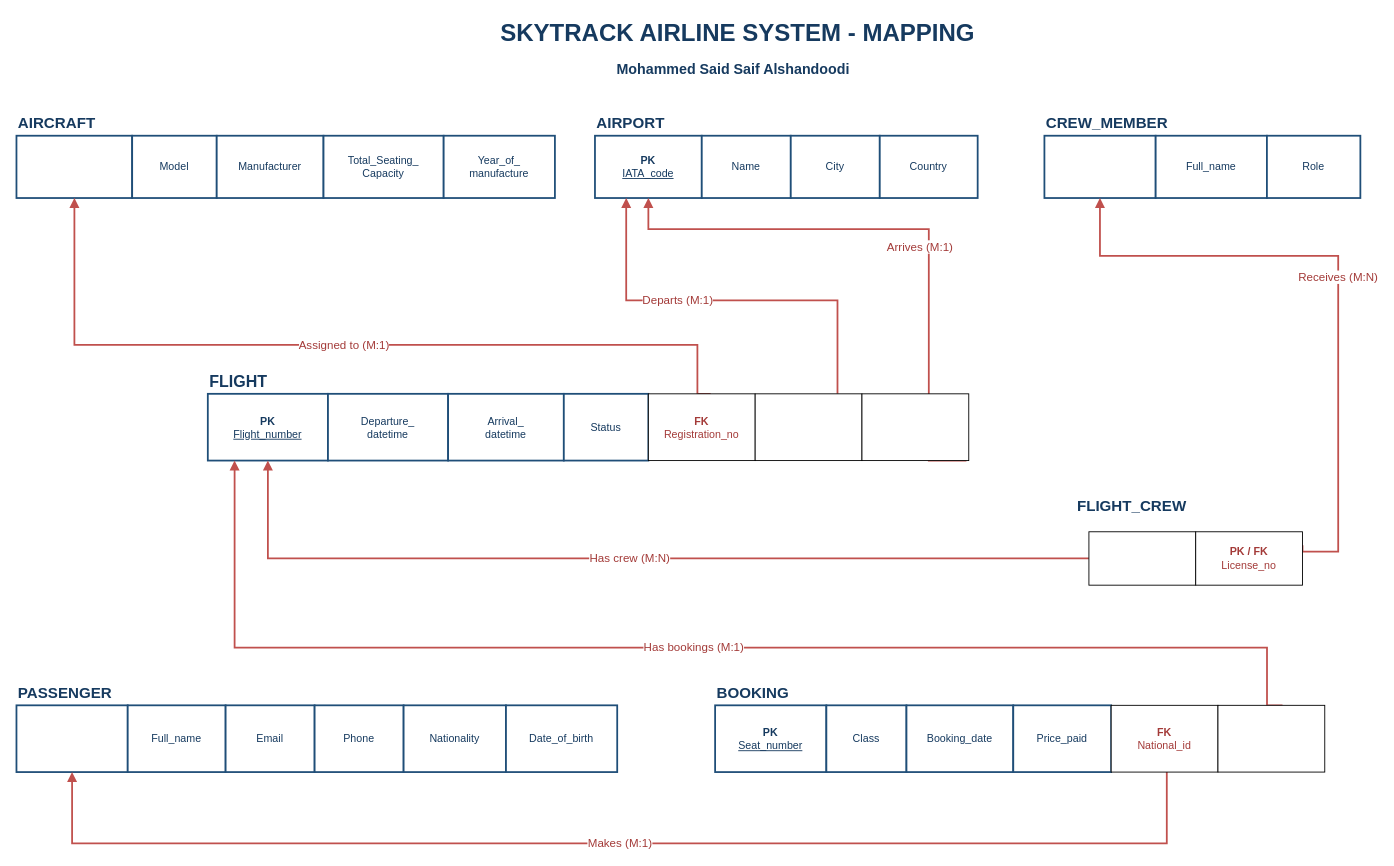
This 1394x866 diagram has some shape labels left out. The centre of each missing label's shape, as x and y in pixels:
FK Arrival_IATA_ code: point 915,427
FK Departure_IATA_ code: point 808,427
FK Flight_number: point 1271,738
PK / FK Flight_number: point 1142,558
PK License_no: point 1099,166
PK National_id: point 71,738
PK Registration_no: point 74,166
